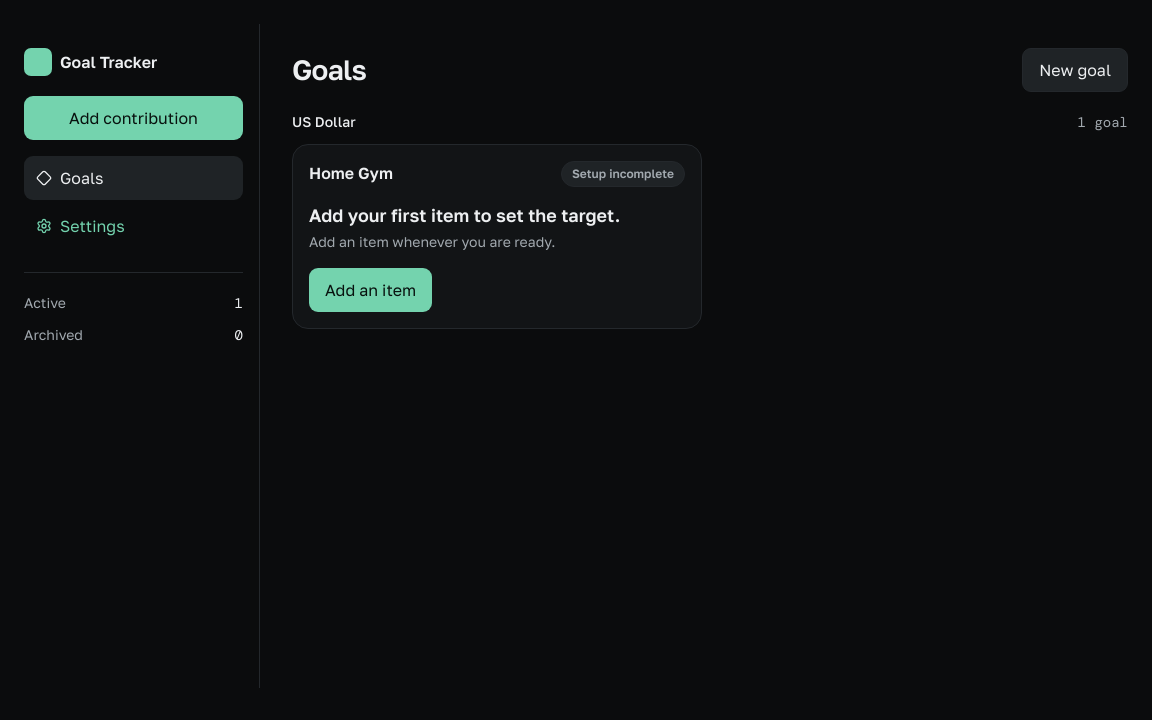
Test case: M2 goals web flows › shows incomplete setup and navigates to add an item
This screenshot has width=1152, height=720.
Expected: the text "Setup incomplete" is shown, [561, 161, 685, 187]
Click the button "Add an item". click: x=371, y=290
box: [309, 268, 432, 312]
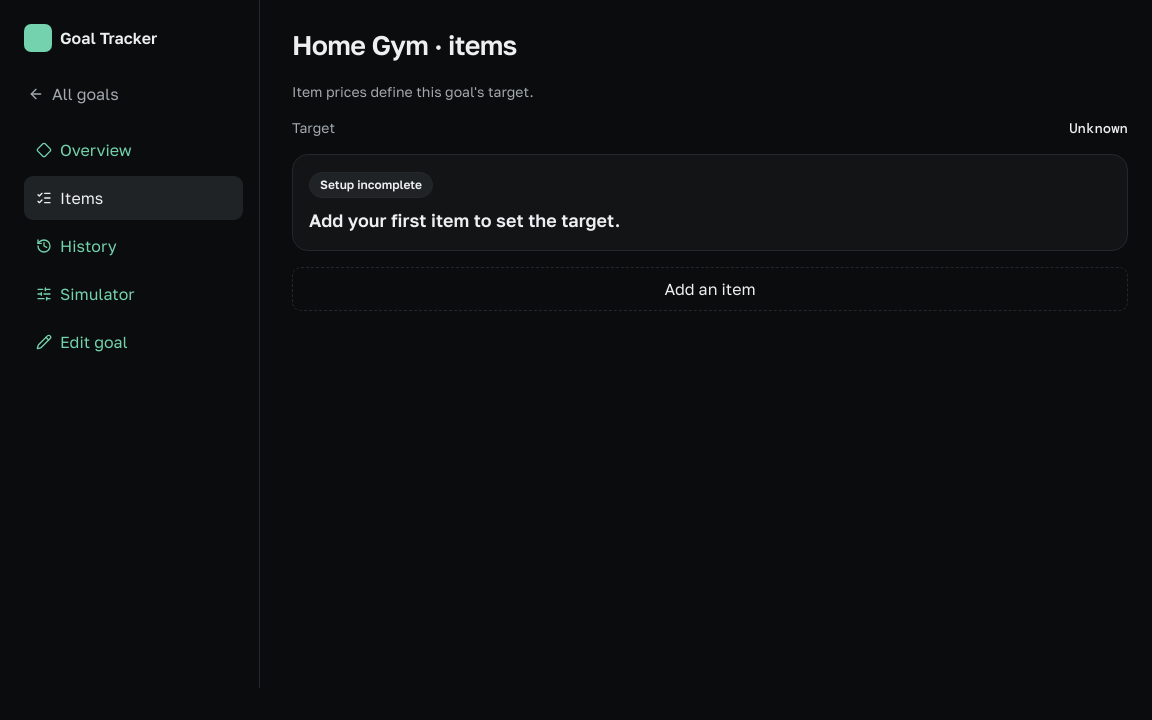
Expected: the heading "Home Gym · items" is shown, [292, 29, 517, 61]
